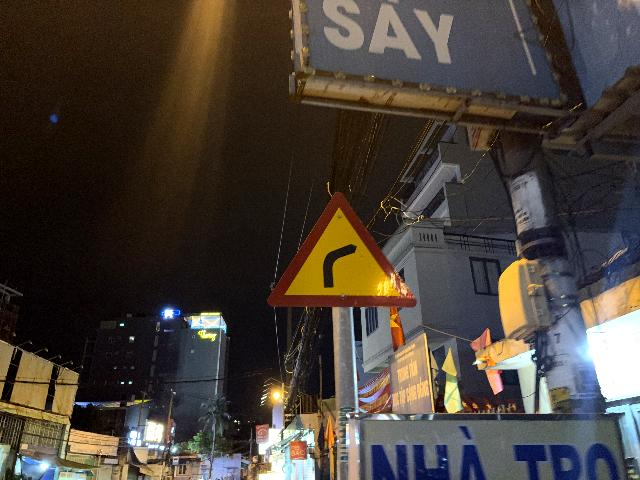cho-ngoat-nguy-hiem-ben-phai: (266, 191, 418, 308)
